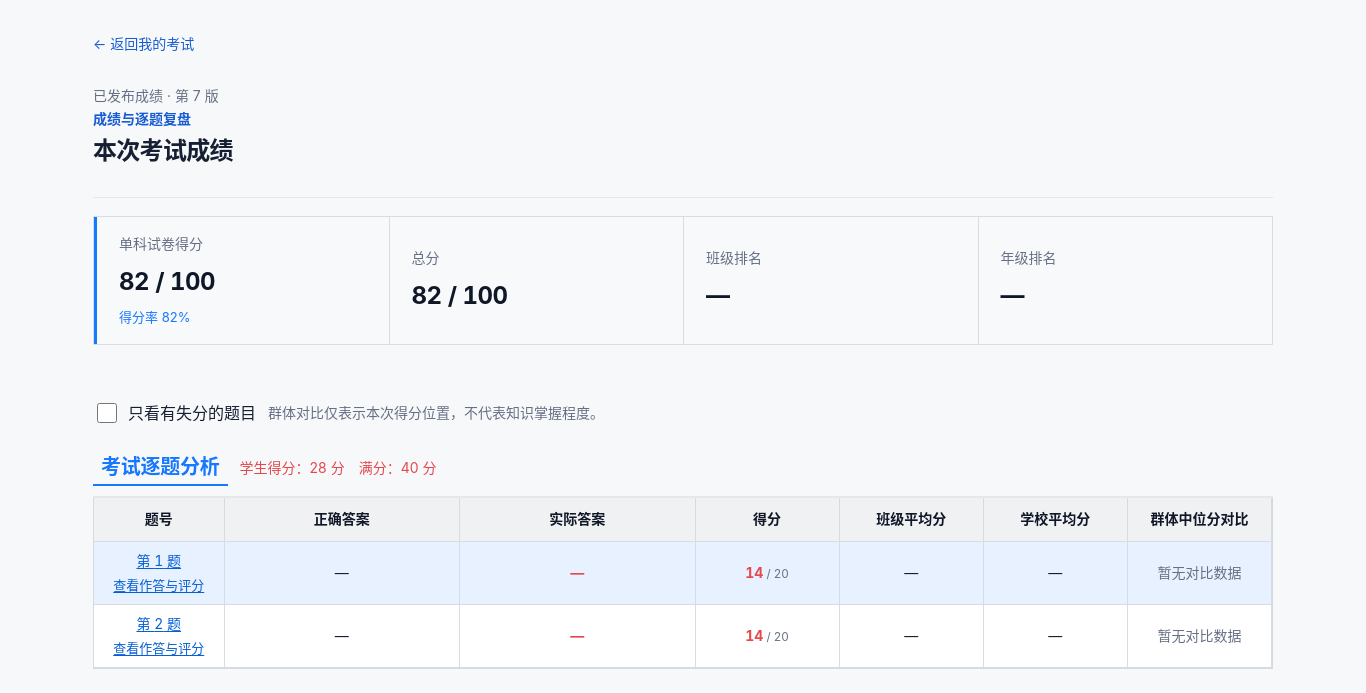
Scenario: Student Portal released-score boundaries › keeps the latest question and appeal target when an older response arrives late
Check: the element labelled "总分" is shown, box [93,216,1273,345]
Click the button with aria-label "第 1 题，" at x=159, y=573, box [104,548,214,598]
(page scrolled)
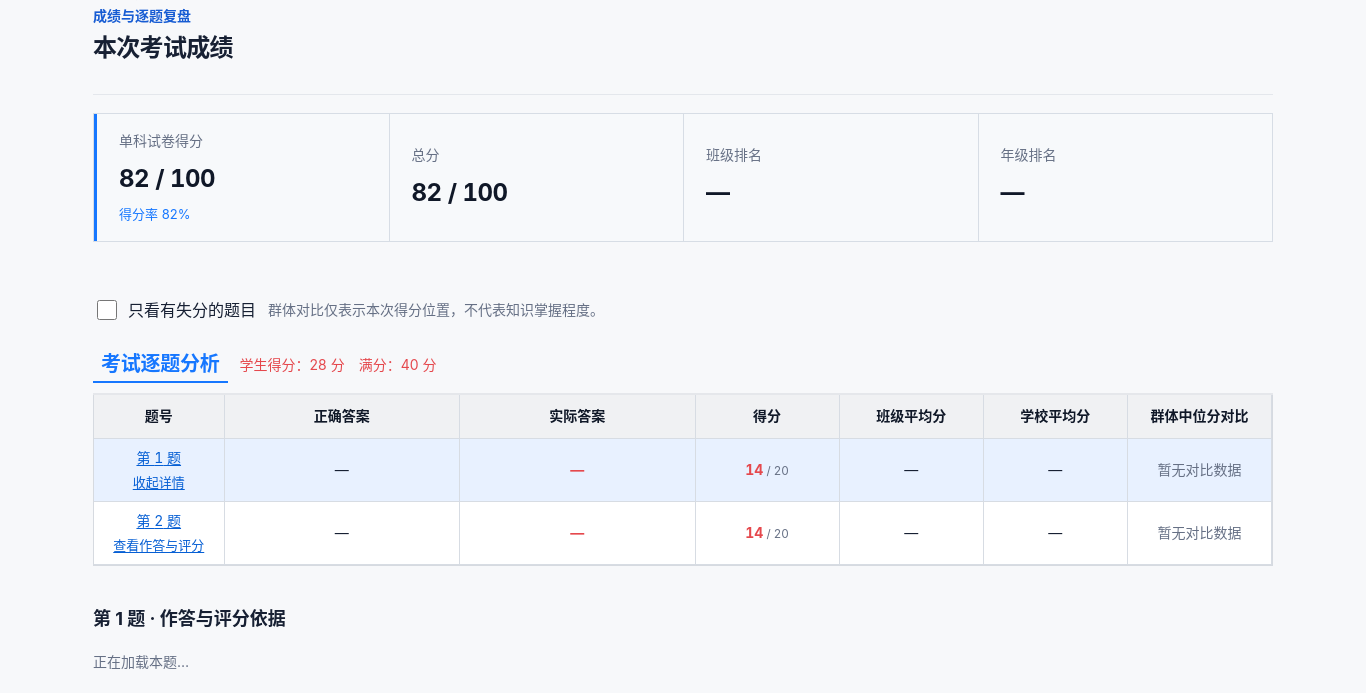
Click the button with aria-label "第 2 题，" at x=159, y=533, box [104,508,214,558]
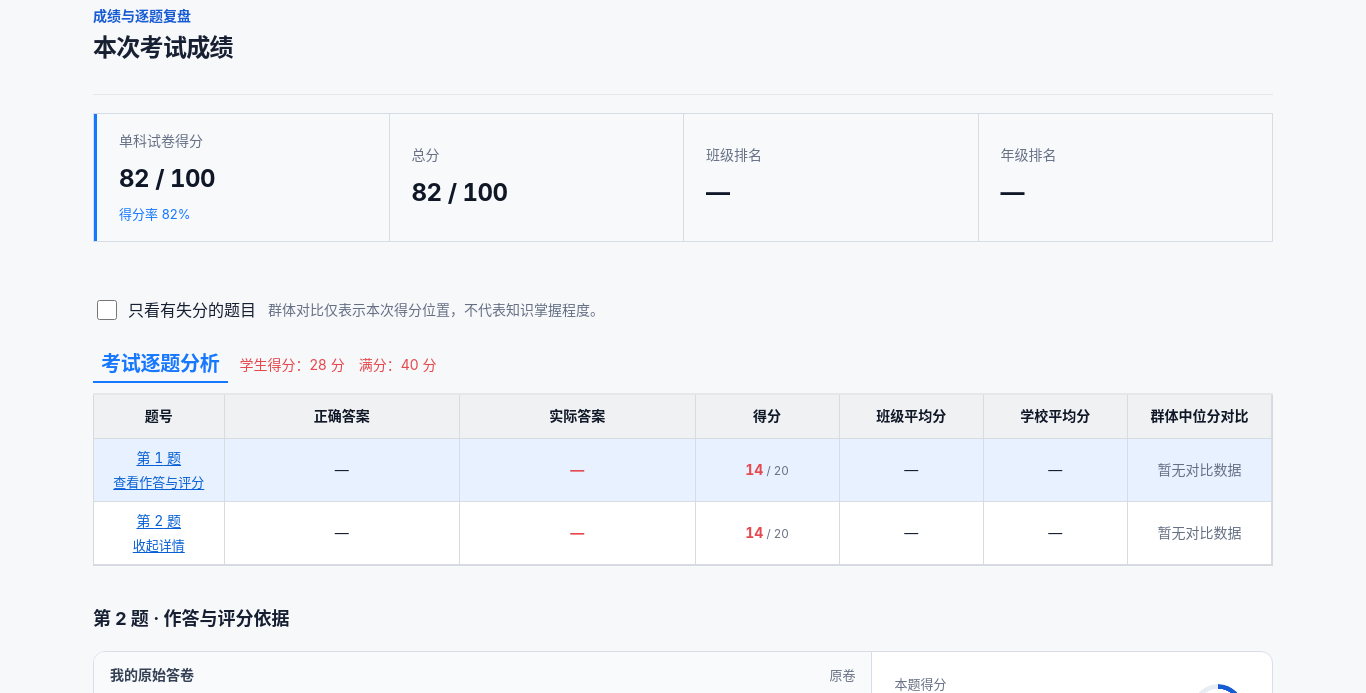
Check: the text "正在加载本题…" is gone
Check: the heading "第 2 题 · 作答与评分依据" is shown, box [93,608,289,629]
